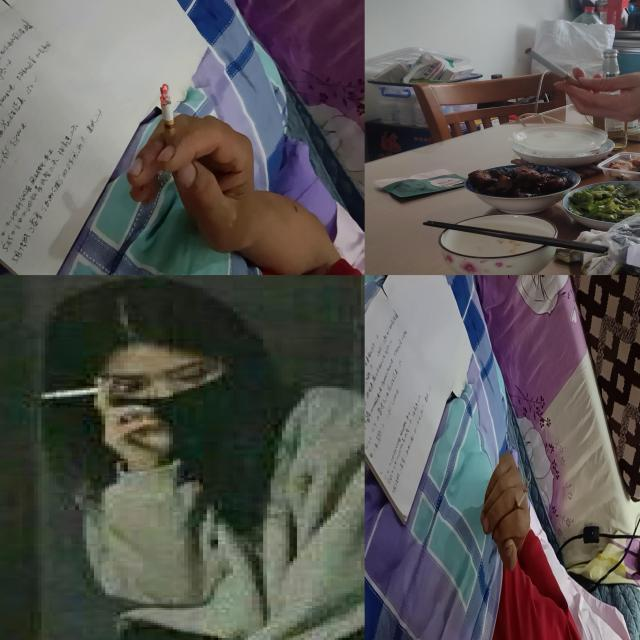smoking: (524, 48, 586, 90), (160, 83, 180, 163), (38, 384, 130, 399), (511, 473, 532, 515)
